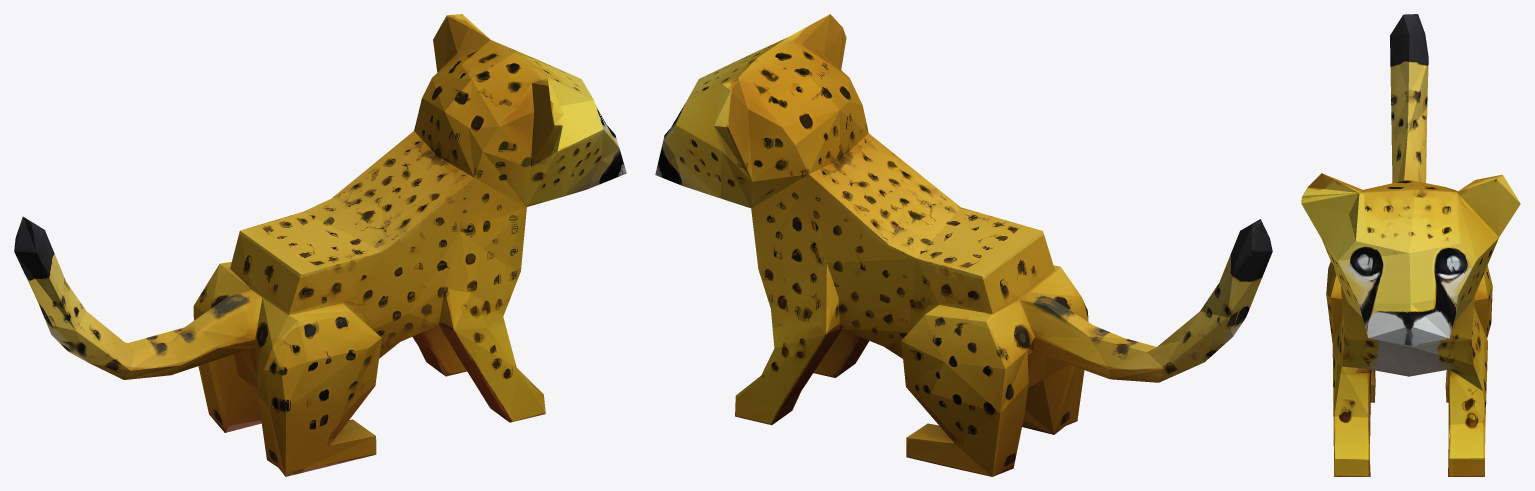
The picture shows the model from 3 angles, left to right: view 1: azimuth 30°, elevation 25°; view 2: azimuth 150°, elevation 25°; view 3: azimuth 270°, elevation 25°; orthographic projection. The views are drawn at different scales.
Visible parts, largest first — view 1: Figure; view 2: Figure; view 3: Figure.
Part boxes in pixels (x1,y1,x2,y2): Figure: [14, 14, 626, 476]; Figure: [655, 14, 1272, 476]; Figure: [1301, 14, 1520, 476].
Bounding box in the file's own units: 0.6713 × 0.3594 × 0.2345.
1 material, 1 textured.
